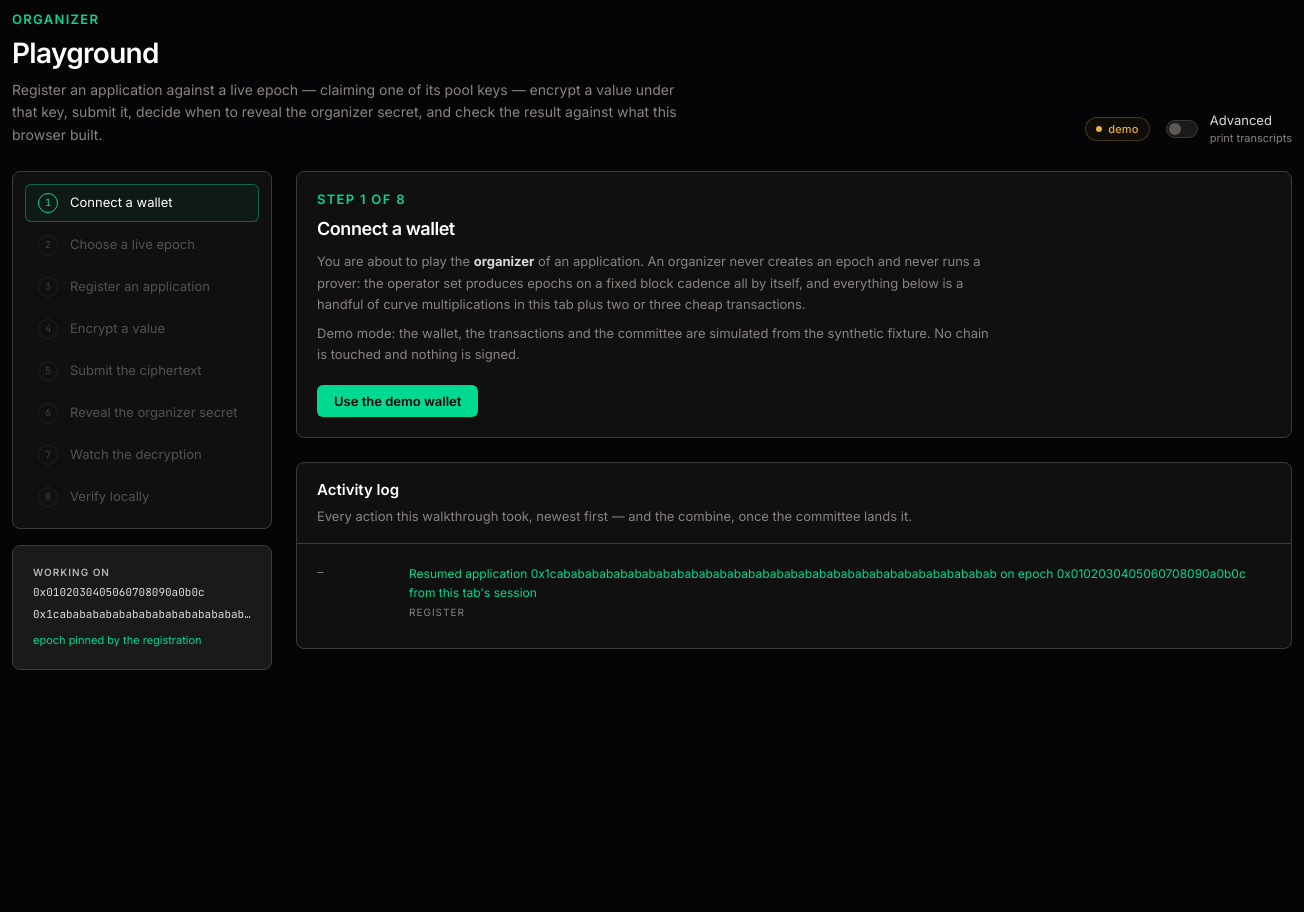
playground (demo) › resumes a walkthrough from a deep link plus the tab session
Expected: the text "Resumed application" is shown, x1=409 y1=566 x2=1246 y2=600
# One click to re-attach a wallet, then straight to where we left off.
Click the button "Use the demo wallet": (398, 401) x1=317 y1=385 x2=478 y2=417
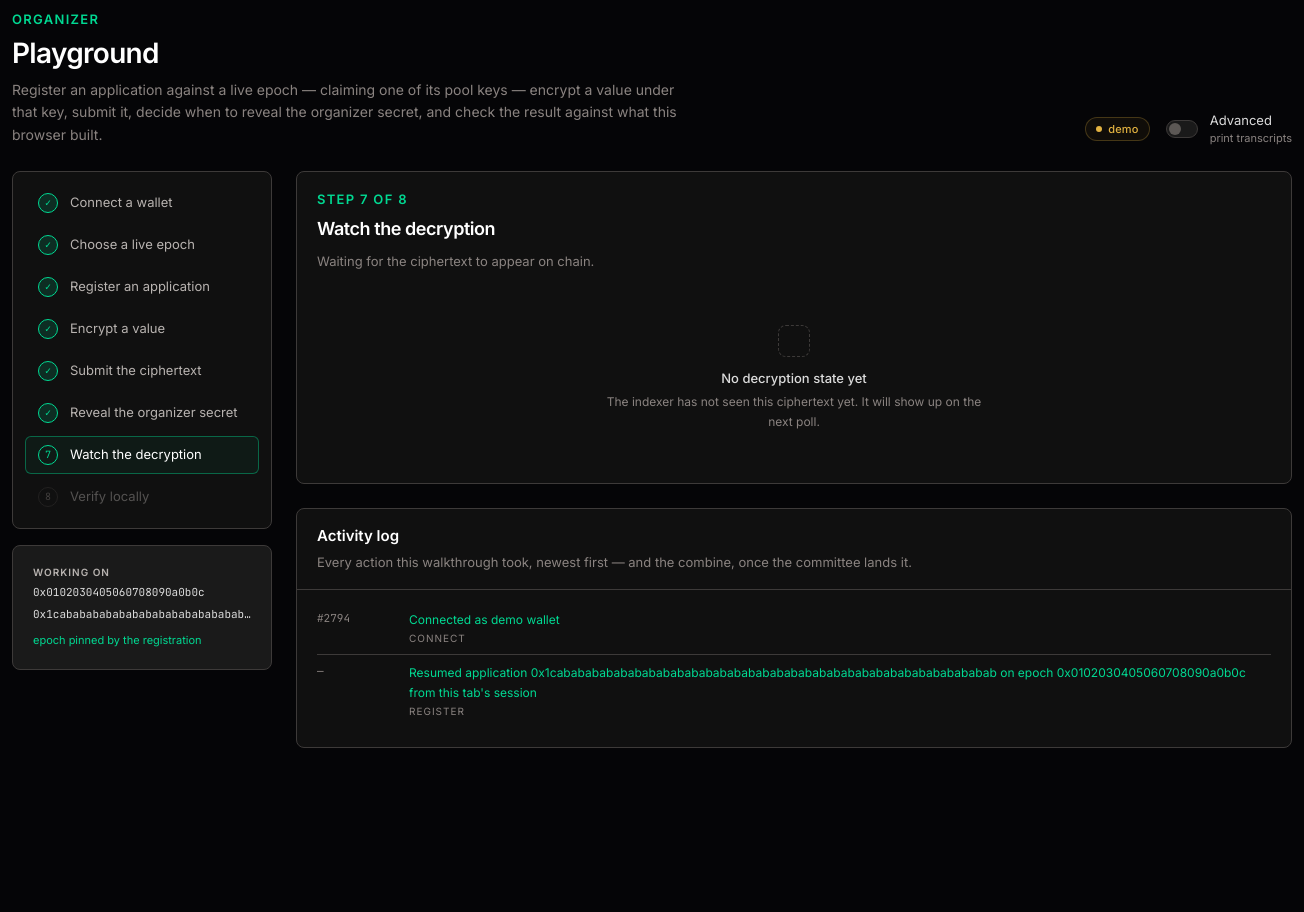
Expected: the heading "Watch the decryption" is shown, x1=317 y1=218 x2=495 y2=239
